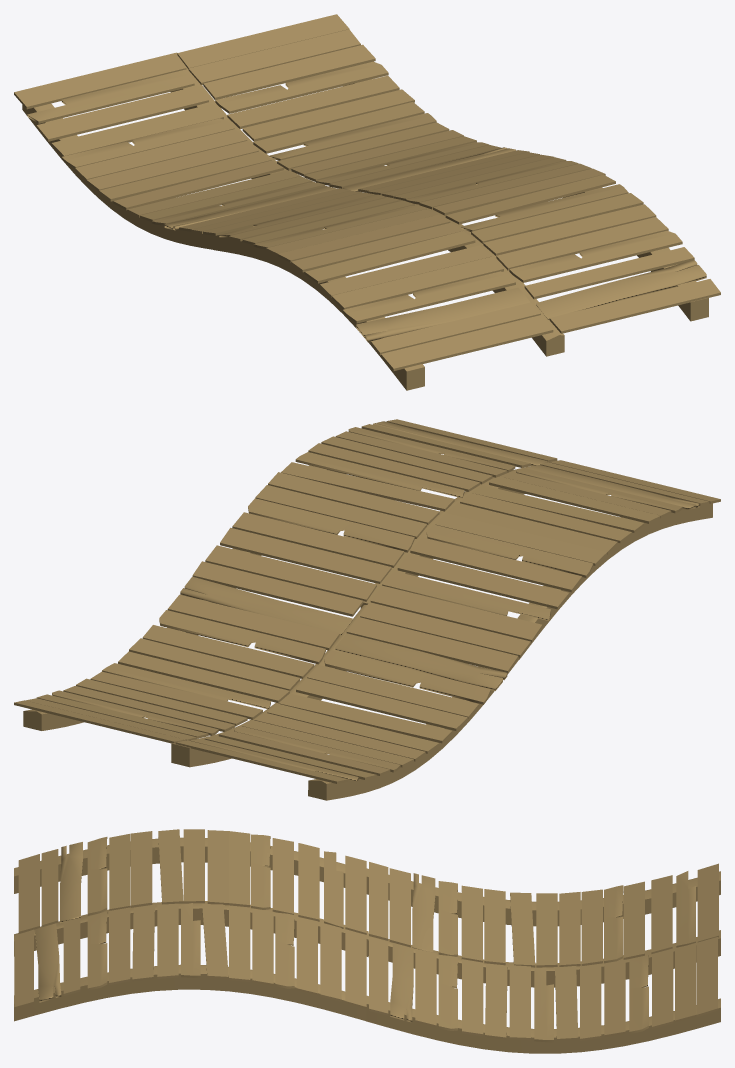
File: Road_Beam_Double_04.fbx
The picture shows the model from 3 angles, top to bottom: view 1: azimuth 30°, elevation 25°; view 2: azimuth 150°, elevation 25°; view 3: azimuth 270°, elevation 25°; orthographic projection. The views are drawn at different scales.
Parts seen in each view (by area): view 1: Road_Beam_Double_04; view 2: Road_Beam_Double_04; view 3: Road_Beam_Double_04.
Boxes of the visible parts, x1,y1,x2,y2 form: Road_Beam_Double_04: (14,14,720,390); Road_Beam_Double_04: (14,419,720,800); Road_Beam_Double_04: (14,829,720,1053).
Size of the model in its own units: 297 by 78.2 by 599.
